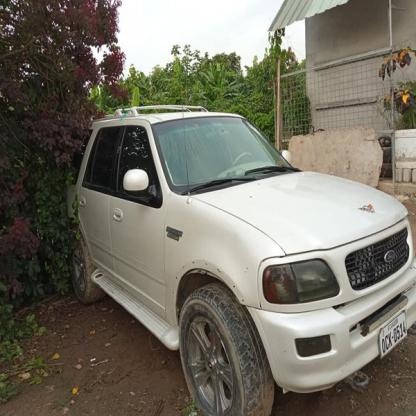Placa: (376, 310, 415, 364)
